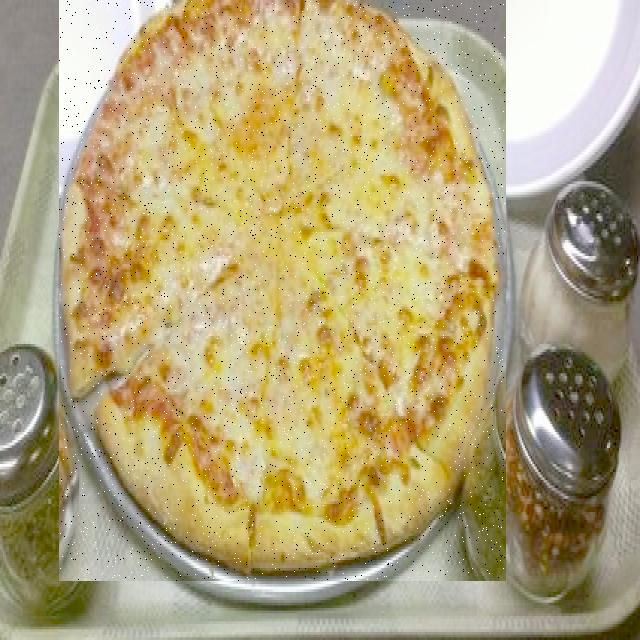Pizza: (60, 0, 505, 581)
